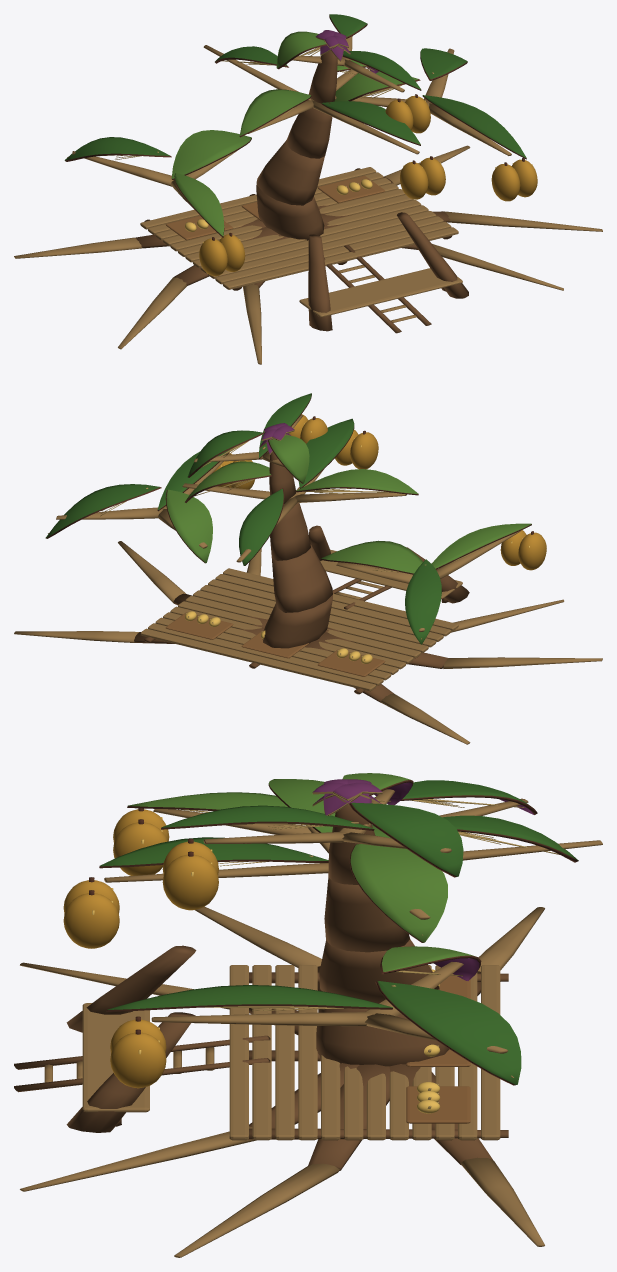
File: verdant_nursery.glb
The picture shows the model from 3 angles, top to bottom: view 1: azimuth 30°, elevation 25°; view 2: azimuth 150°, elevation 25°; view 3: azimuth 270°, elevation 25°; orthographic projection. The views are drawn at different scales.
Parts seen in each view (by area): view 1: Verdant Growth Nursery; view 2: Verdant Growth Nursery; view 3: Verdant Growth Nursery.
Part boxes in pixels (x1,y1,x2,y2): Verdant Growth Nursery: [14, 14, 602, 364]; Verdant Growth Nursery: [14, 393, 602, 744]; Verdant Growth Nursery: [14, 773, 602, 1257].
Bounding box in the file's own units: 23.26 × 9.58 × 16.08.
